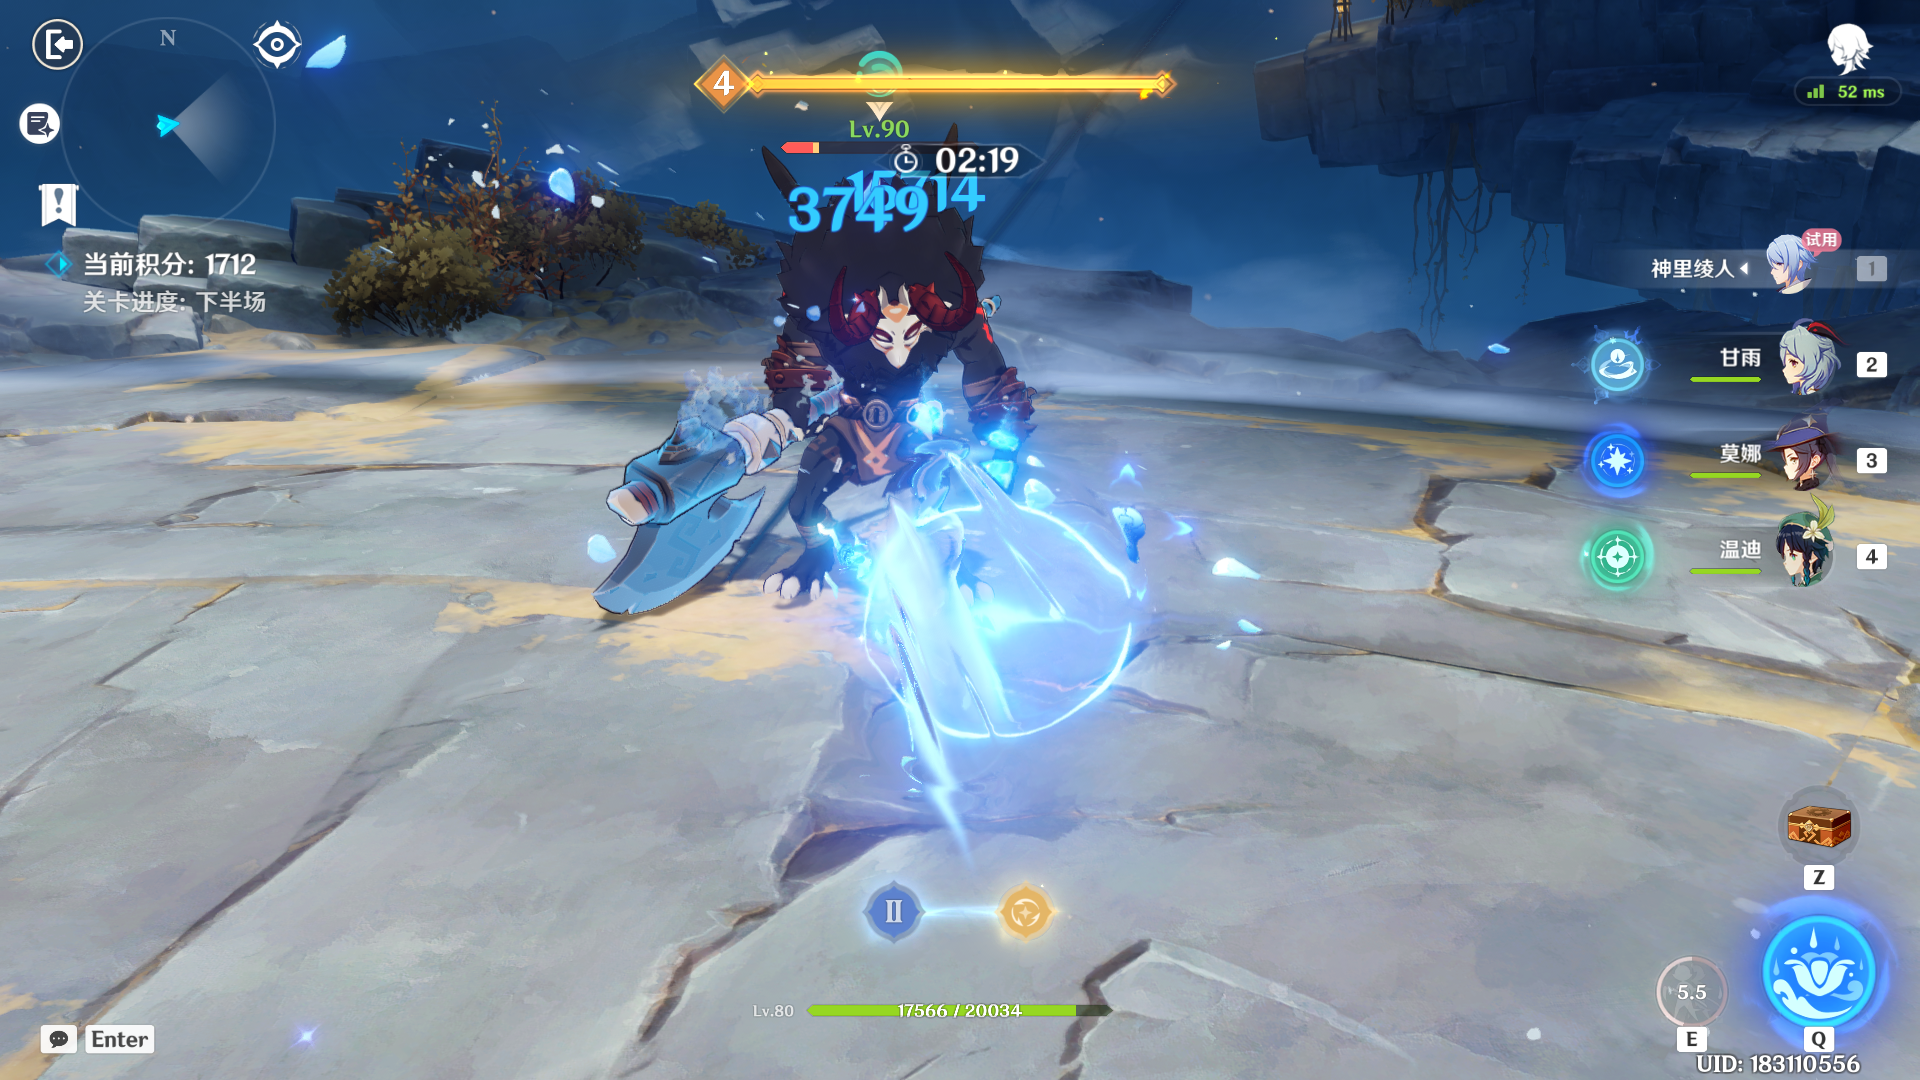bighili: (570, 153, 1080, 665)
